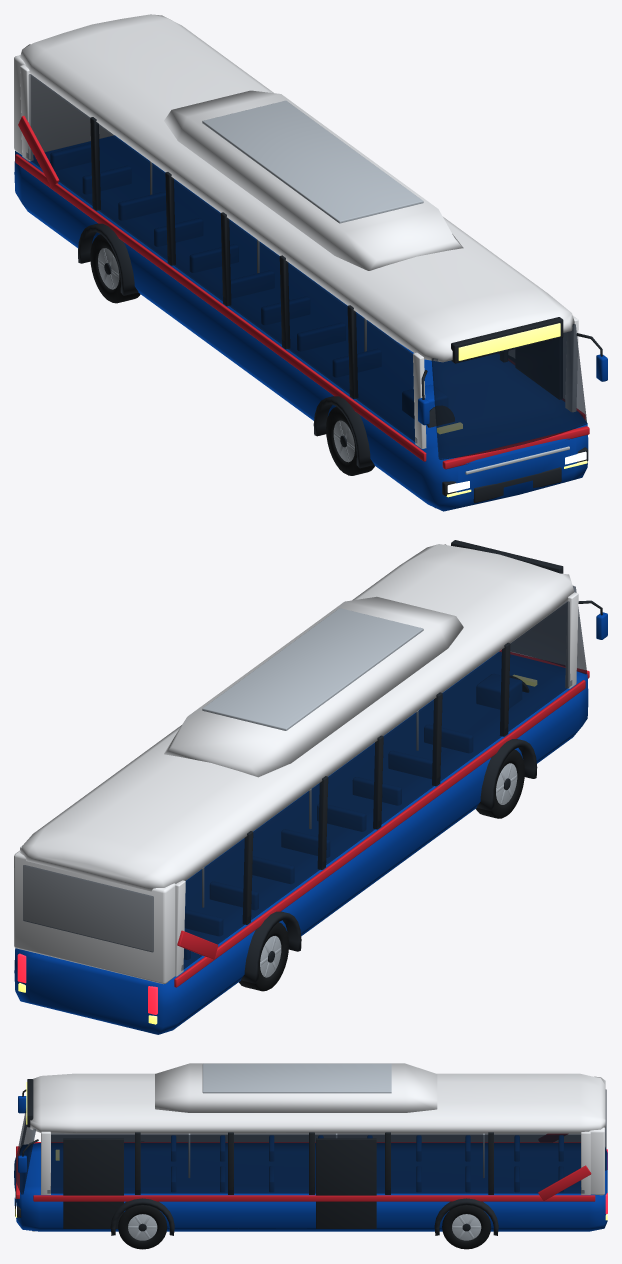
File: rapidkl_750_bus.glb
The picture shows the model from 3 angles, top to bottom: view 1: azimuth 30°, elevation 25°; view 2: azimuth 150°, elevation 25°; view 3: azimuth 270°, elevation 25°; orthographic projection. The views are drawn at different scales.
Visible parts, largest first — view 1: Bus_Lower_Body, Bus_Roof_Shell, Bus_Side_Glass_L, Bus_Front_Windshield, Bus_Roof_HVAC_Pod, Bus_HVAC_Louvers, Bus_Red_Belt_L, Bus_Rear_Bulkhead, Bus_Door_Frame_-4.5, Bus_Wheel_RL_Arch, Bus_Wheel_FL_Arch, Bus_LED_Dest_Sign (+24 smaller); view 2: Bus_Roof_Shell, Bus_Lower_Body, Bus_Side_Glass_L, Bus_Rear_Bulkhead, Bus_Roof_HVAC_Pod, Bus_HVAC_Louvers, Bus_Rear_Glass, Bus_Red_Belt_L, Bus_Front_Windshield, Bus_Wheel_RL_Arch, Bus_Wheel_FL_Arch, Bus_Pillar_L_0 (+19 smaller); view 3: Bus_Lower_Body, Bus_Roof_Shell, Bus_Side_Glass_R, Bus_Roof_HVAC_Pod, Bus_HVAC_Louvers, Bus_Door_Frame_+0.7, Bus_Door_Frame_-4.5, Bus_Red_Belt_R, Bus_Side_Glass_L, Bus_Wheel_FR_Tire, Bus_Wheel_RR_Tire, Bus_Rear_Bulkhead (+15 smaller).
Part boxes in pixels (x1=…): Bus_Lower_Body: x1=14, y1=135, x2=588, y2=511; Bus_Roof_Shell: x1=20, y1=14, x2=574, y2=362; Bus_Side_Glass_L: x1=26, y1=74, x2=416, y2=442; Bus_Front_Windshield: x1=431, y1=324, x2=587, y2=459; Bus_Roof_HVAC_Pod: x1=164, y1=90, x2=463, y2=270; Bus_HVAC_Louvers: x1=202, y1=100, x2=423, y2=223; Bus_Red_Belt_L: x1=15, y1=154, x2=426, y2=461; Bus_Rear_Bulkhead: x1=14, y1=55, x2=113, y2=154; Bus_Door_Frame_-4.5: x1=515, y1=338, x2=560, y2=399; Bus_Wheel_RL_Arch: x1=78, y1=223, x2=138, y2=295; Bus_Wheel_FL_Arch: x1=313, y1=396, x2=374, y2=468; Bus_LED_Dest_Sign: x1=458, y1=323, x2=560, y2=360; Bus_Roof_Shell: x1=20, y1=544, x2=574, y2=891; Bus_Lower_Body: x1=14, y1=652, x2=588, y2=1034; Bus_Side_Glass_L: x1=181, y1=601, x2=571, y2=970; Bus_Rear_Bulkhead: x1=14, y1=850, x2=175, y2=984; Bus_Roof_HVAC_Pod: x1=164, y1=596, x2=463, y2=777; Bus_HVAC_Louvers: x1=202, y1=608, x2=423, y2=730; Bus_Rear_Glass: x1=23, y1=865, x2=153, y2=952; Bus_Red_Belt_L: x1=174, y1=680, x2=585, y2=987; Bus_Front_Windshield: x1=510, y1=586, x2=586, y2=674; Bus_Wheel_RL_Arch: x1=241, y1=911, x2=301, y2=983; Bus_Wheel_FL_Arch: x1=476, y1=739, x2=537, y2=810; Bus_Pillar_L_0: x1=565, y1=592, x2=578, y2=688; Bus_Lower_Body: x1=14, y1=1143, x2=607, y2=1231; Bus_Roof_Shell: x1=30, y1=1073, x2=605, y2=1133; Bus_Side_Glass_R: x1=47, y1=1134, x2=584, y2=1193; Bus_Roof_HVAC_Pod: x1=155, y1=1063, x2=437, y2=1112; Bus_HVAC_Louvers: x1=202, y1=1063, x2=391, y2=1093; Bus_Door_Frame_+0.7: x1=316, y1=1138, x2=376, y2=1228; Bus_Door_Frame_-4.5: x1=63, y1=1138, x2=123, y2=1228; Bus_Red_Belt_R: x1=33, y1=1195, x2=595, y2=1201; Bus_Side_Glass_L: x1=51, y1=1133, x2=580, y2=1141; Bus_Wheel_FR_Tire: x1=118, y1=1205, x2=167, y2=1249; Bus_Wheel_RR_Tire: x1=442, y1=1205, x2=491, y2=1249; Bus_Rear_Bulkhead: x1=589, y1=1127, x2=604, y2=1195.
Bounding box in the file's own units: 2.99 × 3.26 × 12.1.
